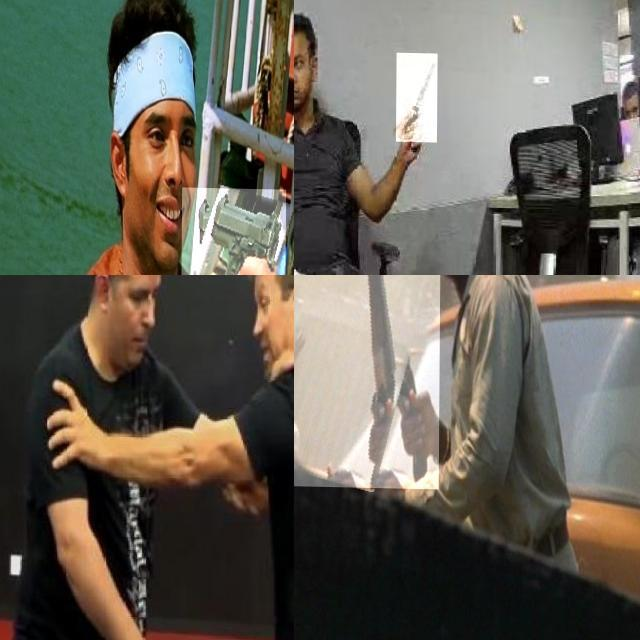-: (396, 51, 438, 141)
gun-knife-thesis - v11 Yolov5 augmented: (294, 275, 441, 488), (181, 186, 286, 275)
